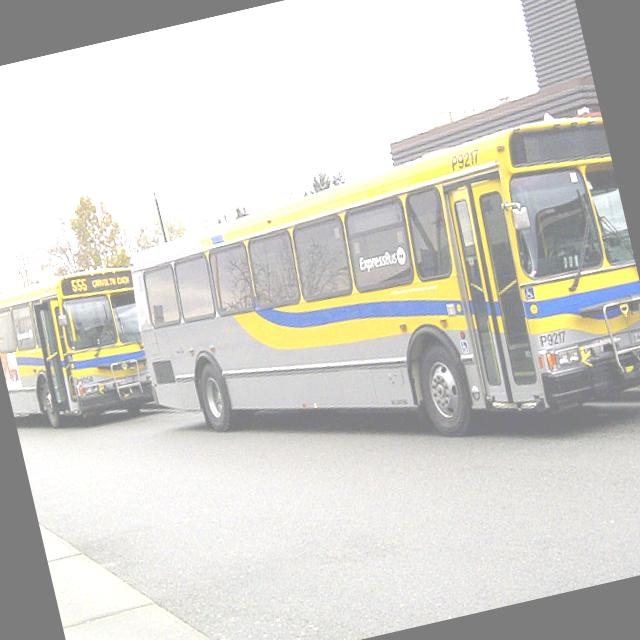Vehicle: (109, 101, 640, 509), (0, 261, 159, 443)
